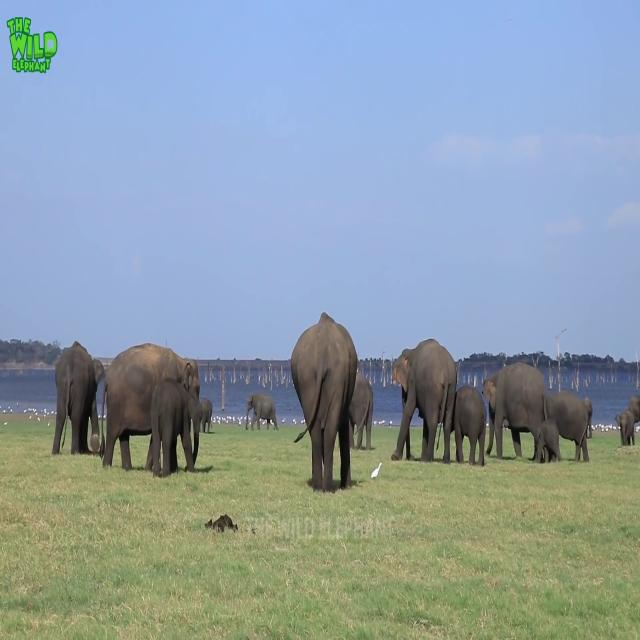Elephant: (100, 342, 200, 471), (291, 311, 358, 492), (391, 338, 457, 462), (51, 340, 106, 456), (482, 361, 546, 460), (145, 378, 202, 477), (542, 391, 592, 462), (348, 370, 373, 451), (245, 393, 279, 431), (615, 409, 635, 446), (200, 398, 212, 433)
